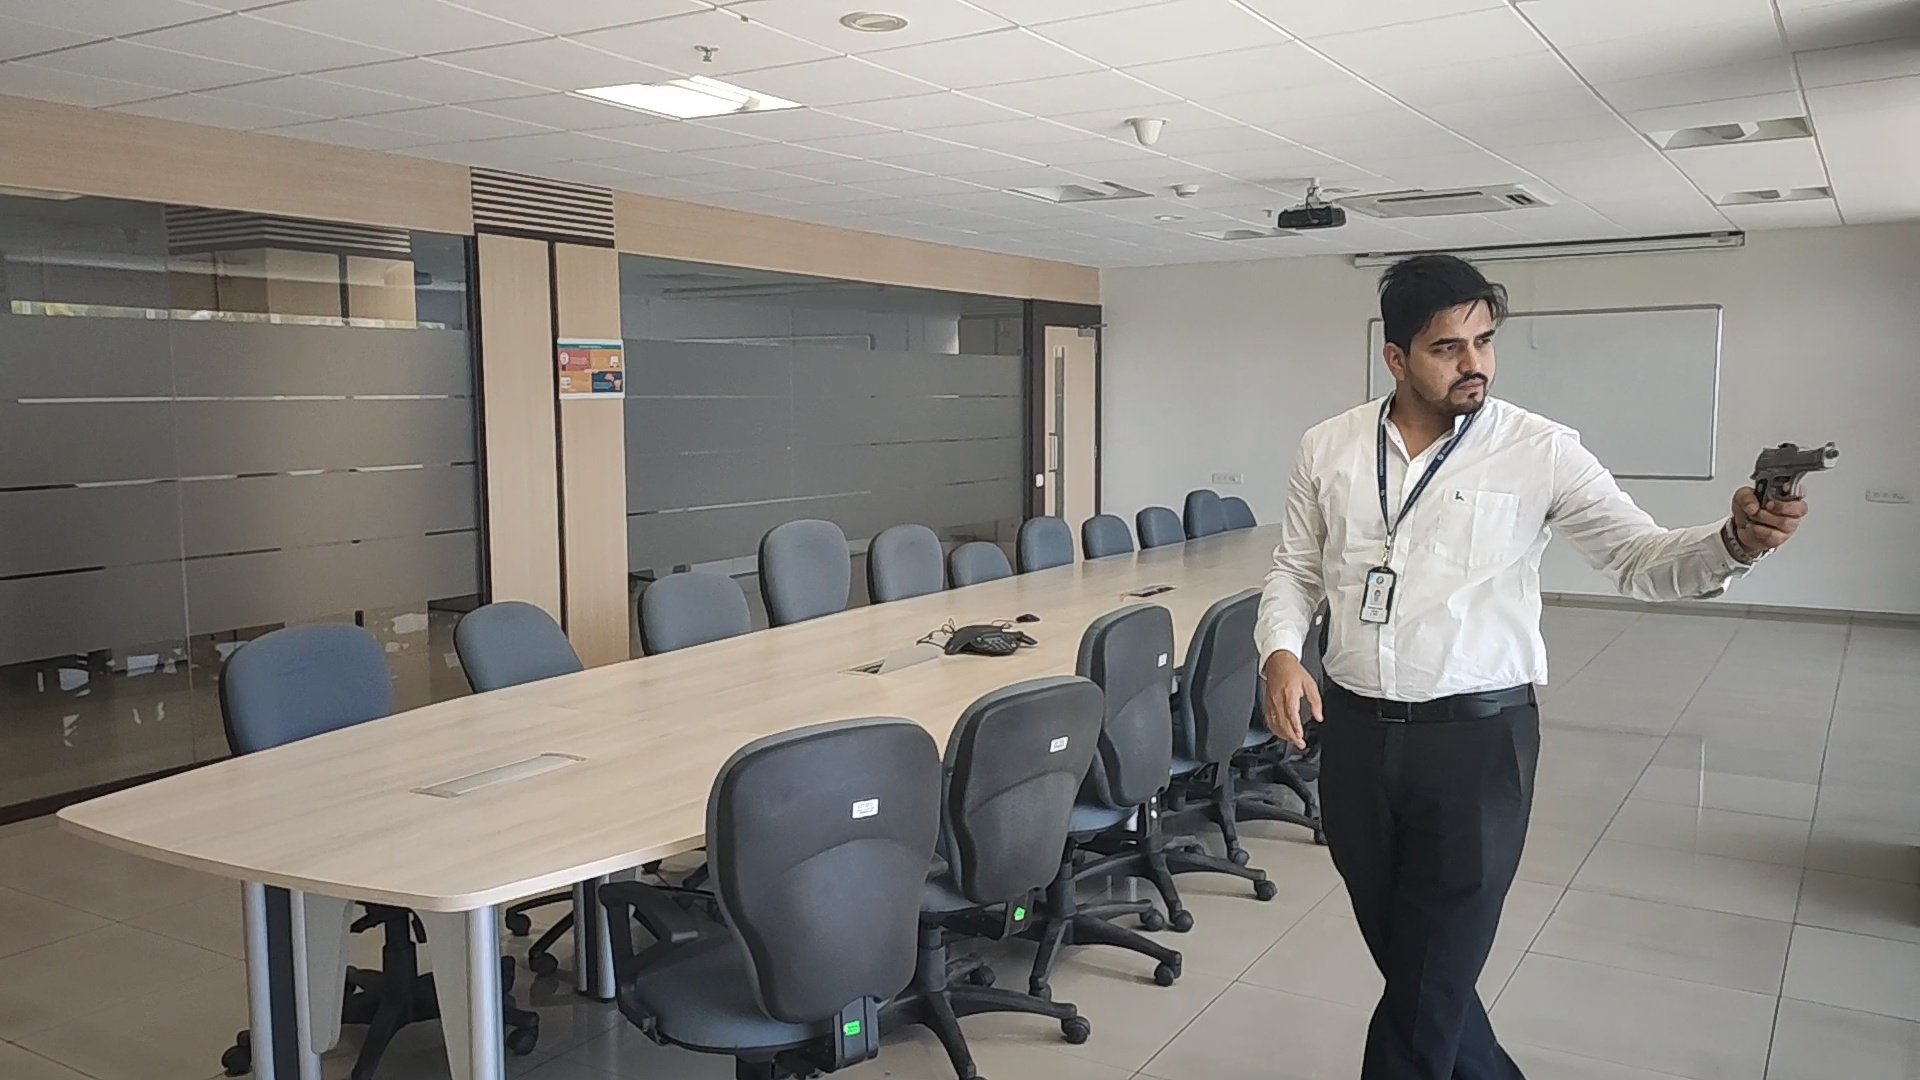gun: (1746, 438, 1844, 488)
